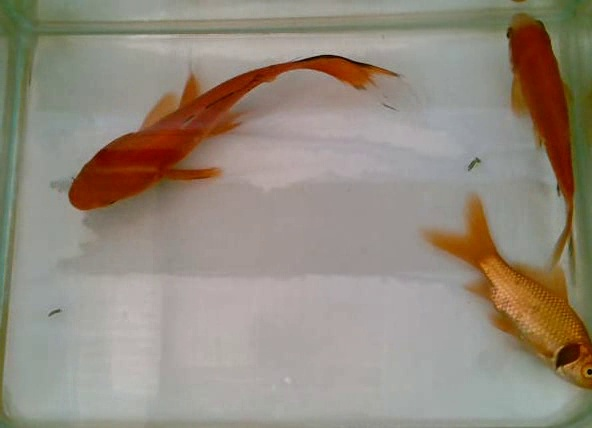alive_fish: (61, 37, 417, 221), (497, 6, 583, 292)
dead_fish: (411, 187, 592, 396)
